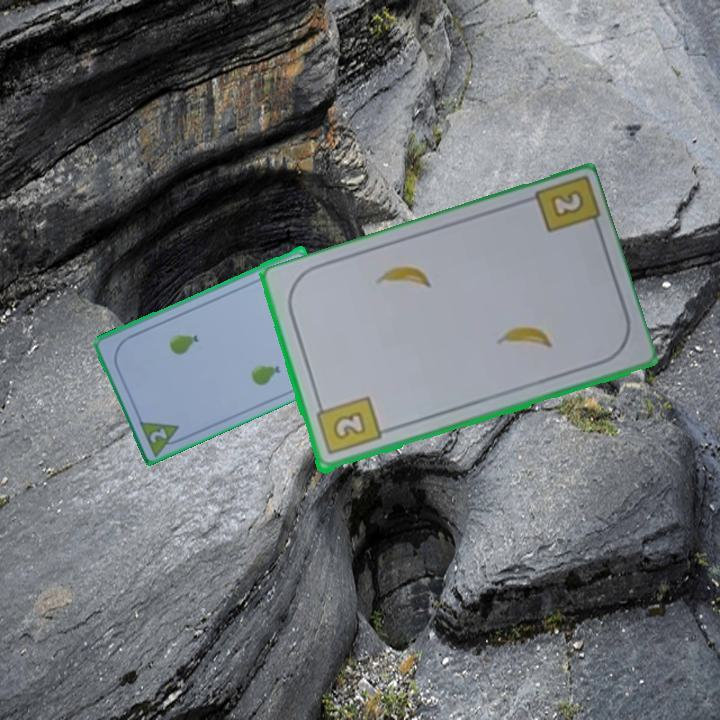2b: (312, 393, 384, 458), (550, 190, 584, 218)
2p: (146, 424, 171, 445)
